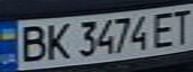3: (75, 17, 100, 57)
4: (130, 11, 154, 52), (97, 16, 118, 55)
7: (112, 15, 133, 53)
B: (12, 21, 51, 63)
E: (148, 8, 181, 48)
K: (42, 20, 72, 61)
T: (169, 6, 193, 44)
